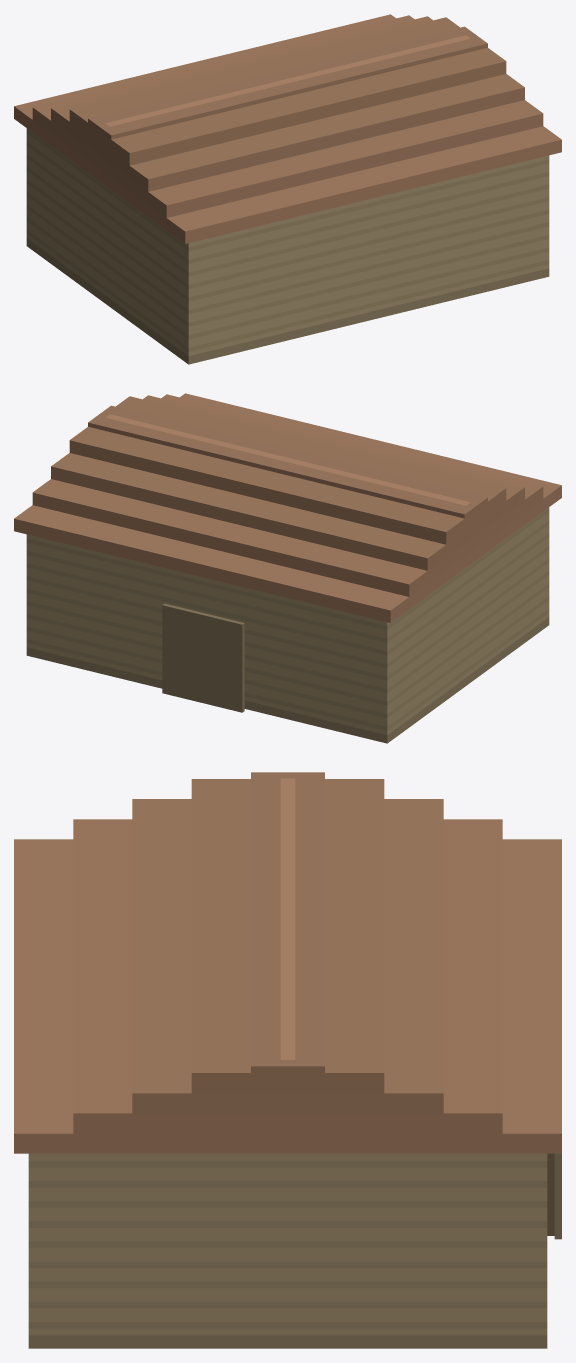
The model's file is establo_comunal_01.glb.
3 views of the same model, one above another, from view 1: azimuth 30°, elevation 25°; view 2: azimuth 150°, elevation 25°; view 3: azimuth 270°, elevation 25° (orthographic). The views are drawn at different scales.
Parts seen in each view (by area): view 1: establo_comunal_01; view 2: establo_comunal_01; view 3: establo_comunal_01.
Part boxes in pixels (left/top/right/bottom): establo_comunal_01: left=14, top=14, right=561, bottom=364; establo_comunal_01: left=14, top=393, right=561, bottom=743; establo_comunal_01: left=14, top=772, right=561, bottom=1348.
Bounding box in the file's own units: 9.4 × 4.3 × 7.4.
